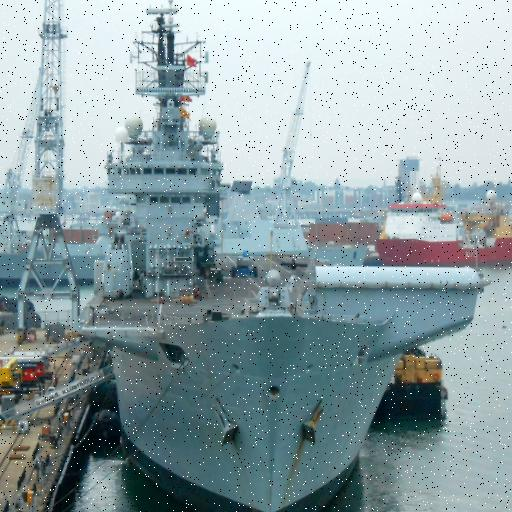Portanaves: (76, 1, 481, 512)
